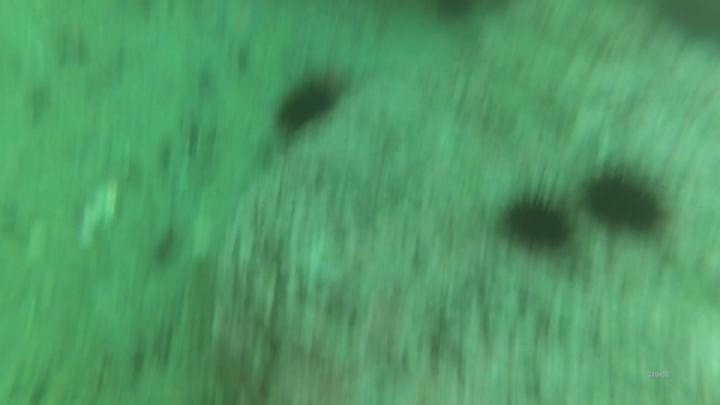echinus: (579, 161, 671, 239), (495, 184, 576, 256), (270, 68, 344, 138), (649, 0, 719, 51)
